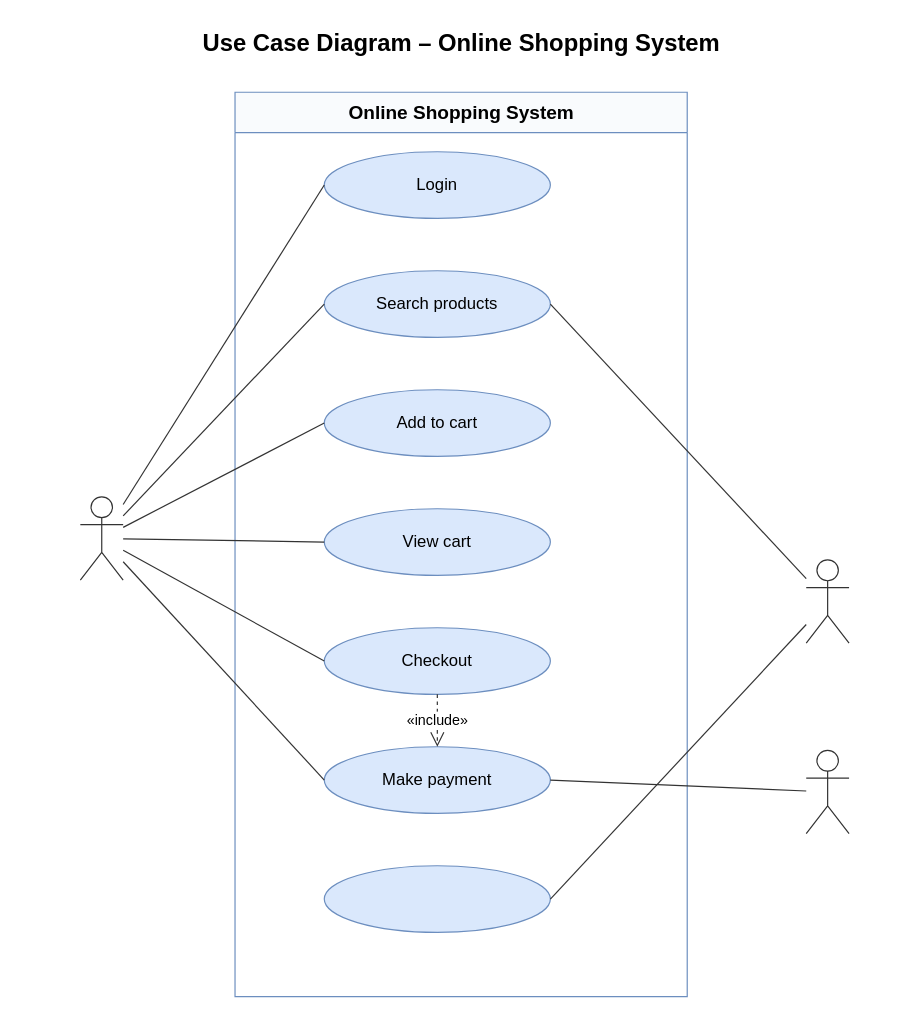
This 921x1017 diagram has some shape labels left out. The shapes that lost their labels are listed below. From the top down, each one's box as (x1, y1, x2, y2) in pixels, then its label:
(79, 496, 123, 580): Customer
(805, 559, 849, 643): Admin
(805, 749, 849, 834): Payment Gateway
(323, 865, 550, 932): Log transaction
